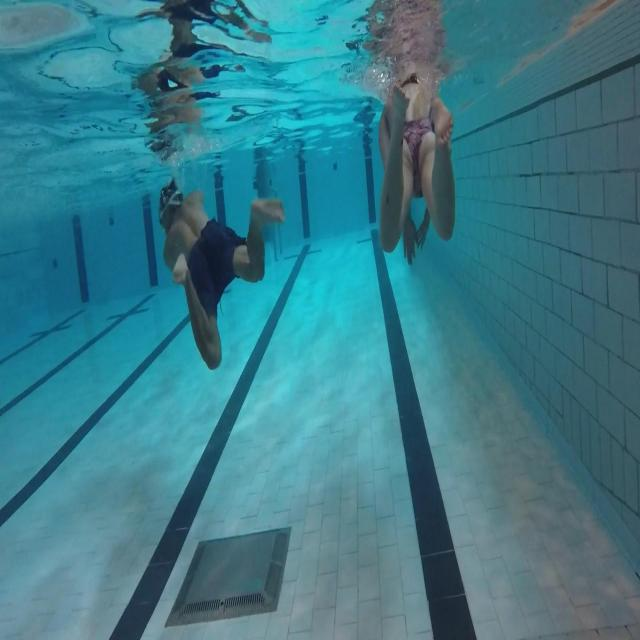human: (158, 174, 285, 370), (378, 67, 456, 266)
